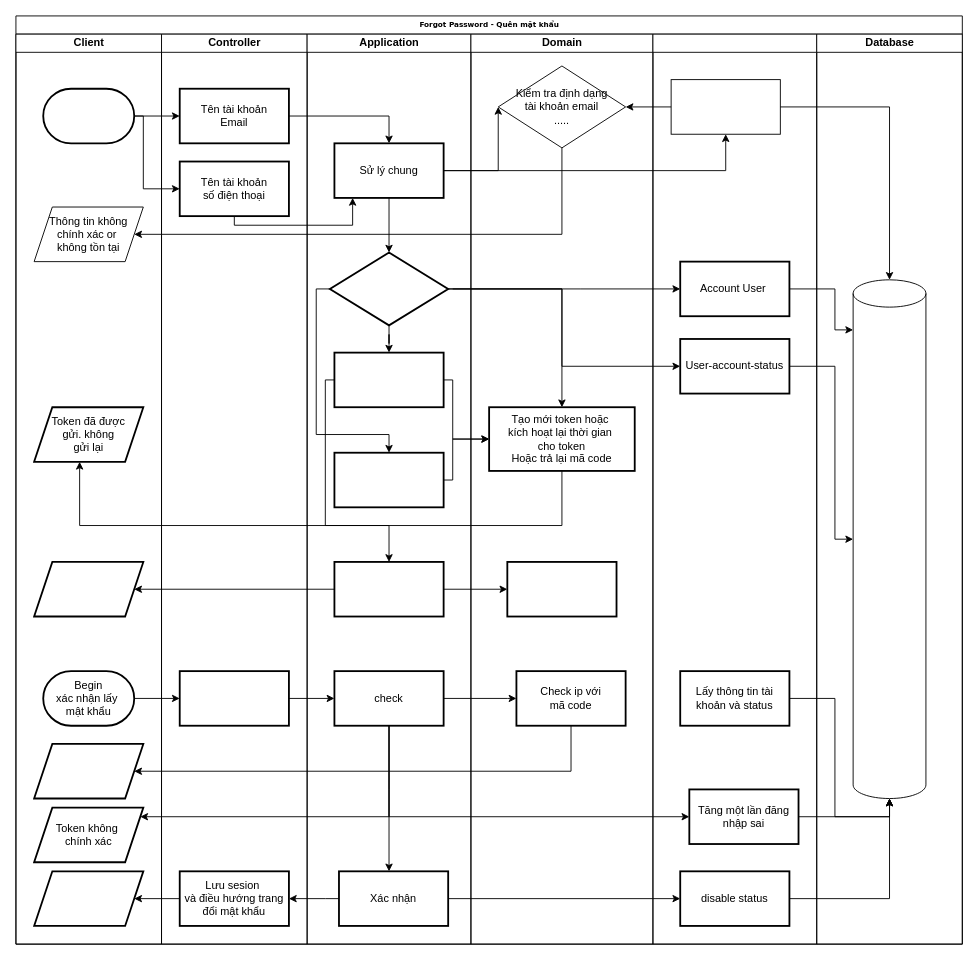
The diagram is 978 pixels wide and 960 high, and some of its shapes have lost their labels. The shapes that lost their labels are listed below. From the top down, each one's box as (x1, y1, x2, y2) in pixels, then its label:
(42, 87, 135, 144): Begin lấy mật khẩu
(670, 79, 780, 134): Lấy thông tin tài khoản
(329, 251, 449, 326): Kiểm tra Token Reset
(333, 351, 444, 408): Email
(333, 451, 444, 508): Số điện thoại
(652, 33, 817, 944): Infrastructure
(33, 561, 144, 617): Đã gửi yêu cầu xác nhận
(333, 561, 444, 617): Hậu sử lý
(506, 561, 617, 617): Gửi mã
(178, 670, 289, 726): Tên tài khoản Email Mã code
(33, 743, 144, 799): Buộc xác thực token bằng Email
(33, 870, 144, 926): Đổi mật khẩu
